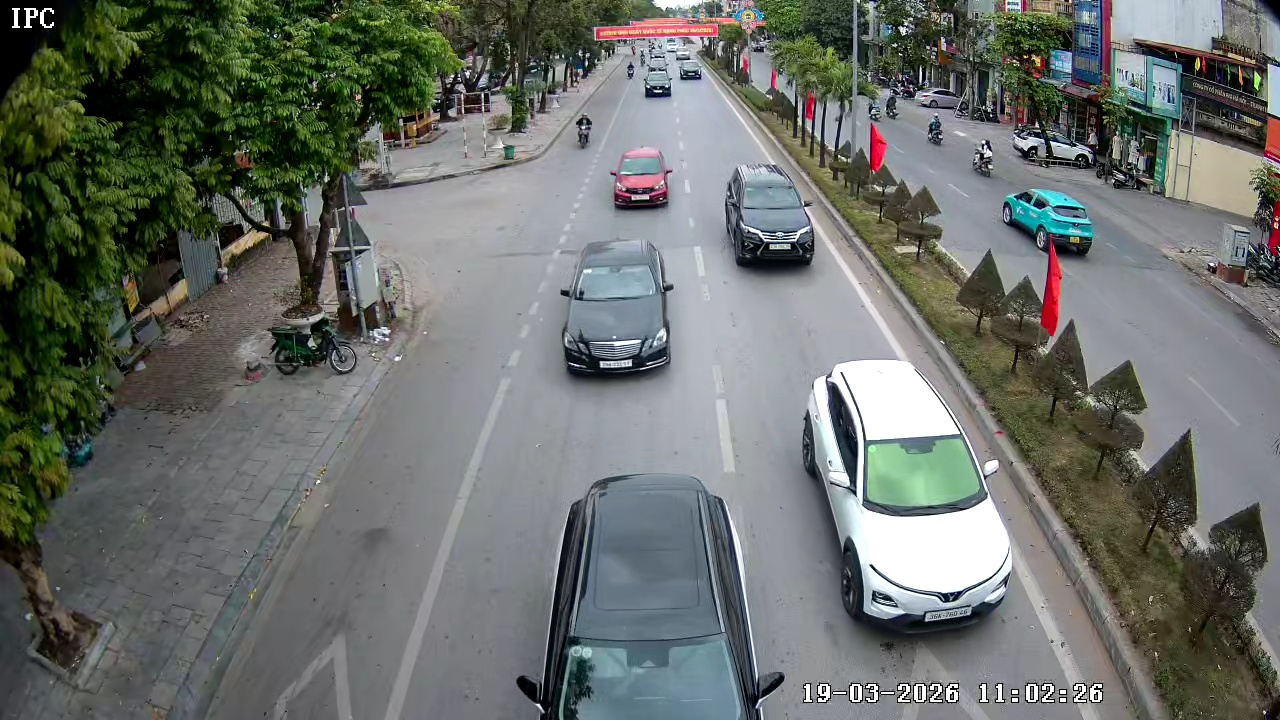bike: (889, 183, 944, 263)
car: (503, 453, 799, 719), (800, 360, 1012, 621), (559, 239, 675, 377), (722, 161, 815, 267), (1001, 188, 1095, 255), (609, 146, 673, 211), (640, 58, 674, 96), (678, 59, 705, 83)
motorbike: (254, 307, 375, 383), (574, 106, 598, 153), (624, 59, 638, 81)
